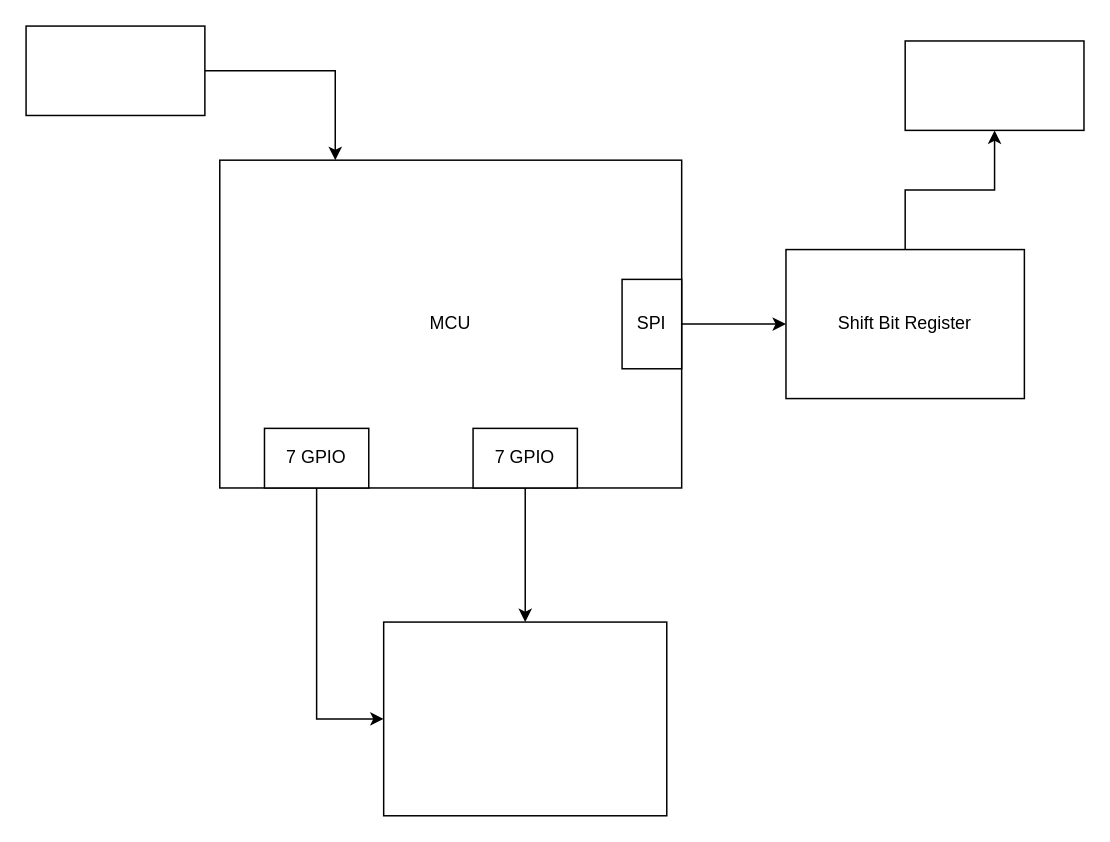
This 1110x842 diagram has some shape labels left out. The shapes that lost their labels are listed below. From the top down, each one's centre as x and y in pixels, then its label:
the point at 115,70: BATTERY
the point at 994,84: LCD
the point at 524,718: Button Matrix
